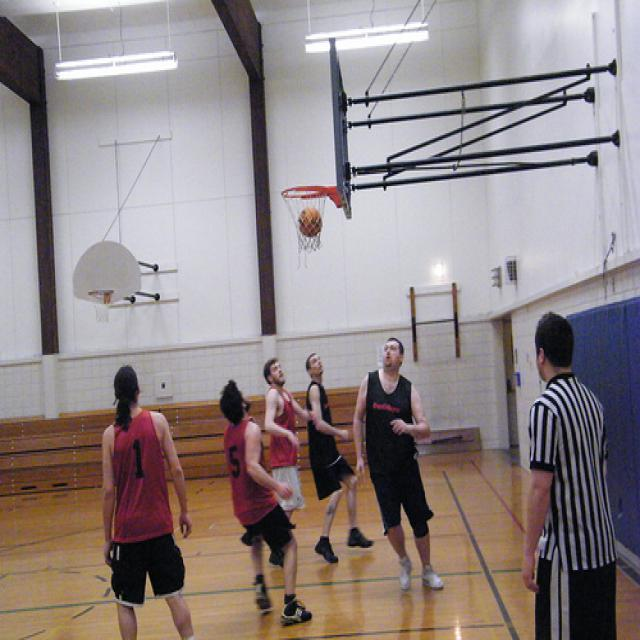basketball: (295, 207, 326, 237)
